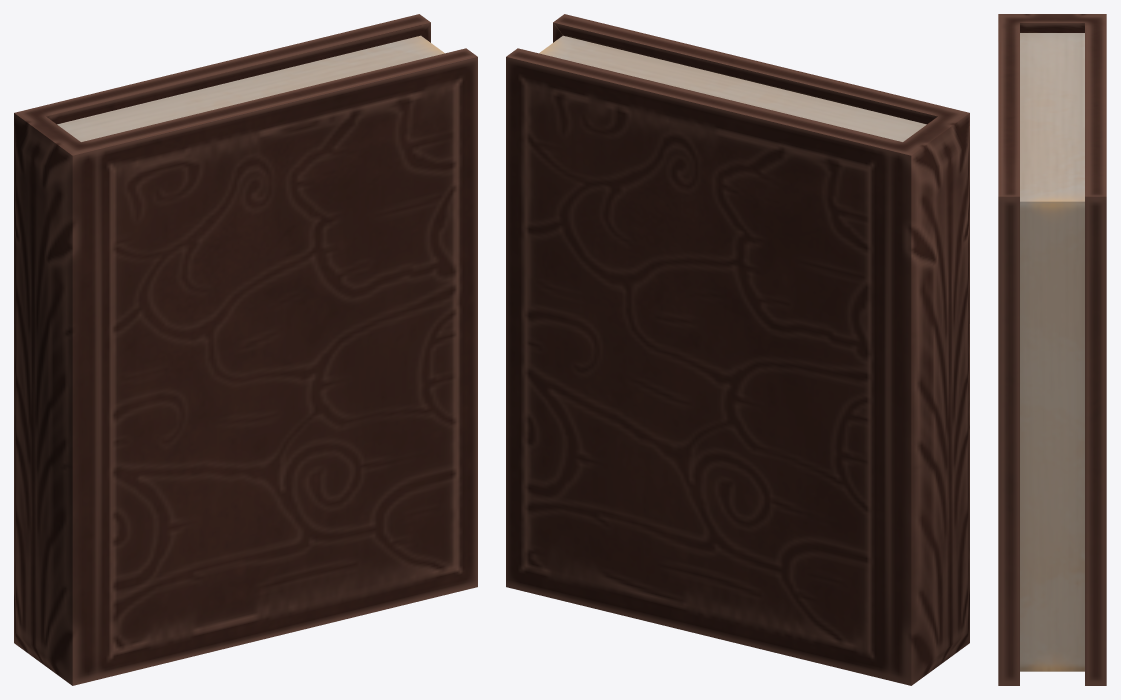
Rendered from SM_Book_A.fbx.
3 renders of one model, left to right at view 1: azimuth 30°, elevation 25°; view 2: azimuth 150°, elevation 25°; view 3: azimuth 270°, elevation 25°, orthographic. The views are drawn at different scales.
Parts seen in each view (by area): view 1: SM_Book_A_LOD0; view 2: SM_Book_A_LOD0; view 3: SM_Book_A_LOD0.
Part boxes in pixels (x1=…): SM_Book_A_LOD0: x1=14, y1=14, x2=477, y2=685; SM_Book_A_LOD0: x1=506, y1=14, x2=969, y2=685; SM_Book_A_LOD0: x1=998, y1=14, x2=1106, y2=685.
Size of the model in its own units: 20.48 by 5 by 25.
1 material, 1 textured.
